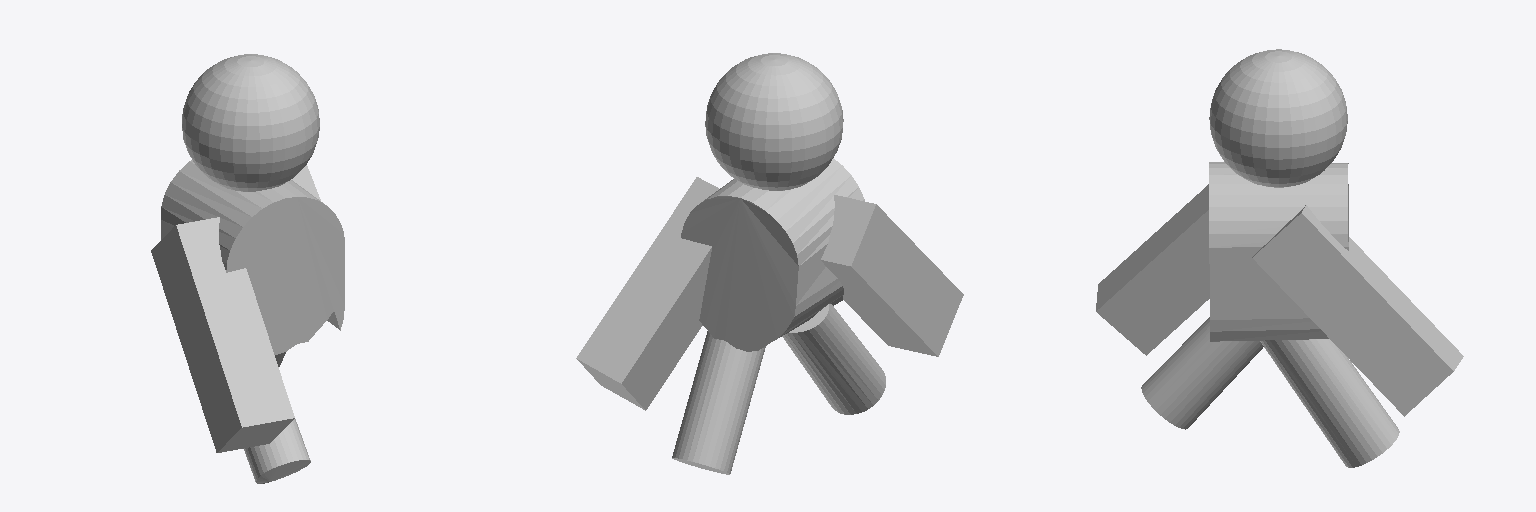
File: Figurine115.obj
The picture shows the model from 3 angles: view 1: azimuth 30°, elevation 25°; view 2: azimuth 150°, elevation 25°; view 3: azimuth 270°, elevation 25°; orthographic projection.
Visible parts, largest first — view 1: Cylinder; view 2: Cylinder; view 3: Cylinder.
Boxes of the visible parts, x1,y1,x2,y2 form: Cylinder: [151, 54, 344, 483]; Cylinder: [576, 53, 963, 474]; Cylinder: [1096, 49, 1463, 467].
Bounding box in the file's own units: 3.49 × 6.28 × 5.31.